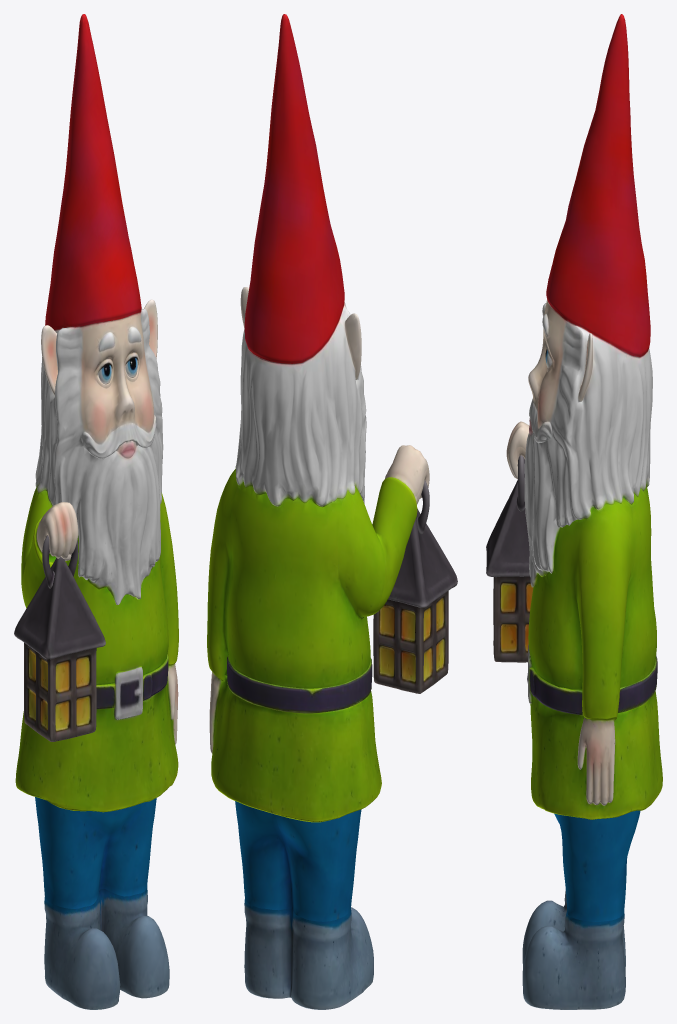
File: garden_gnome.glb
3 views of the same model, side by side, from view 1: azimuth 30°, elevation 25°; view 2: azimuth 150°, elevation 25°; view 3: azimuth 270°, elevation 25° (orthographic). The views are drawn at different scales.
Visible parts, largest first — view 1: garden_gnome.002; view 2: garden_gnome.002; view 3: garden_gnome.002.
Boxes of the visible parts, x1,y1,x2,y2 form: garden_gnome.002: (14, 14, 178, 1009); garden_gnome.002: (207, 14, 457, 1009); garden_gnome.002: (486, 14, 662, 1009).
Size of the model in its own units: 5.97 by 29.48 by 4.86.
1 material, 1 textured.
